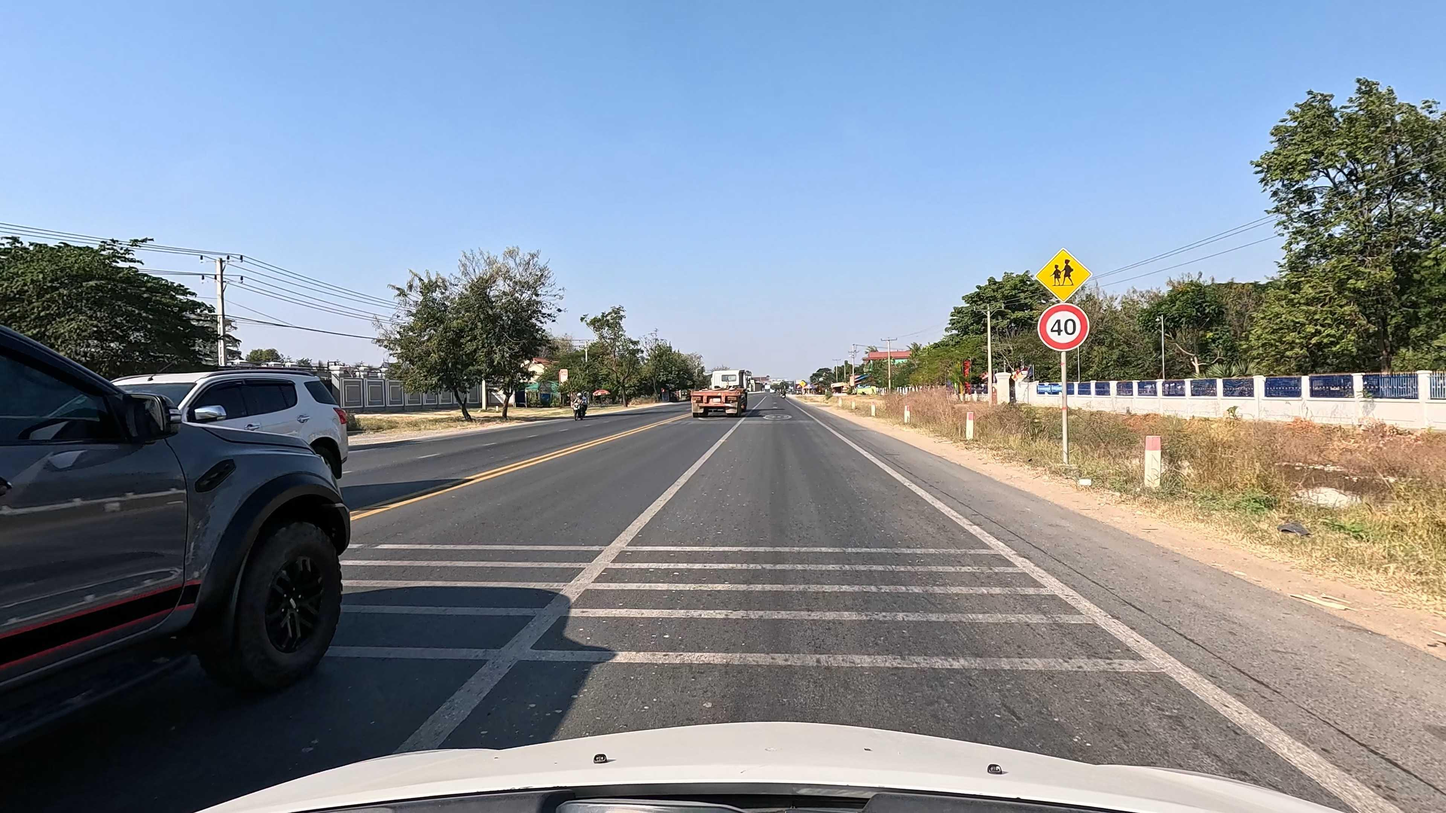school_zone: (1034, 248, 1092, 302)
speed_limit_40: (1034, 303, 1092, 353)
